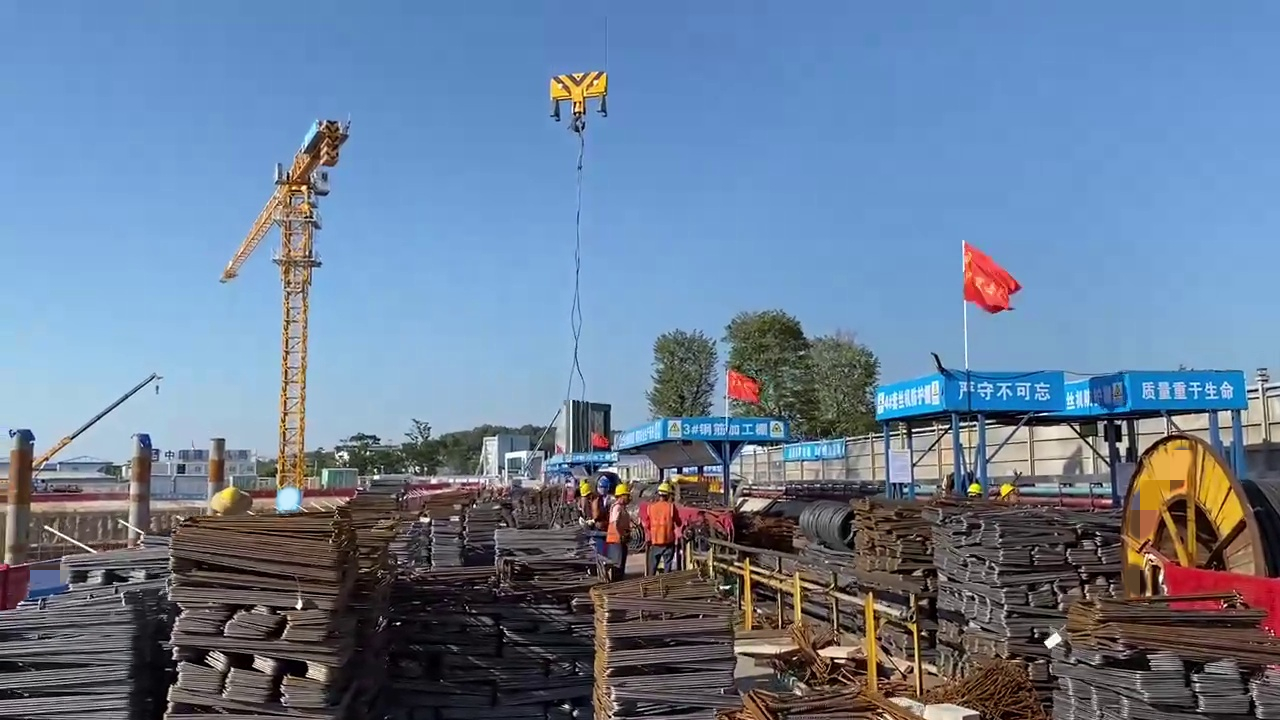helmet: (221, 486, 244, 504), (656, 482, 674, 495), (614, 484, 632, 495), (581, 483, 594, 494)
hook: (546, 66, 608, 119)
person: (643, 480, 675, 575), (609, 482, 634, 582), (578, 481, 601, 547)
rebar: (155, 520, 349, 720), (405, 532, 587, 692), (934, 507, 1089, 682), (17, 546, 172, 720), (1047, 602, 1253, 720), (596, 575, 742, 720), (851, 495, 948, 589), (748, 673, 921, 720)
slogan: (952, 374, 1056, 406), (1134, 375, 1242, 401)
vest: (649, 503, 674, 547), (609, 503, 626, 544)
